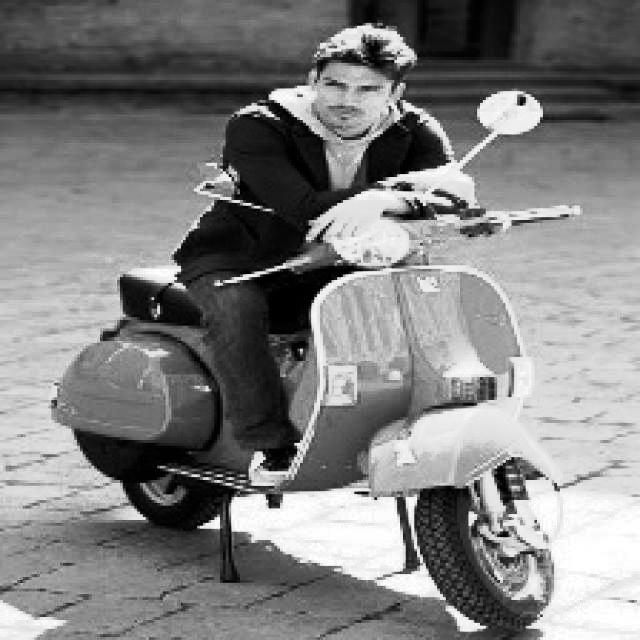Bike: (102, 191, 598, 637)
